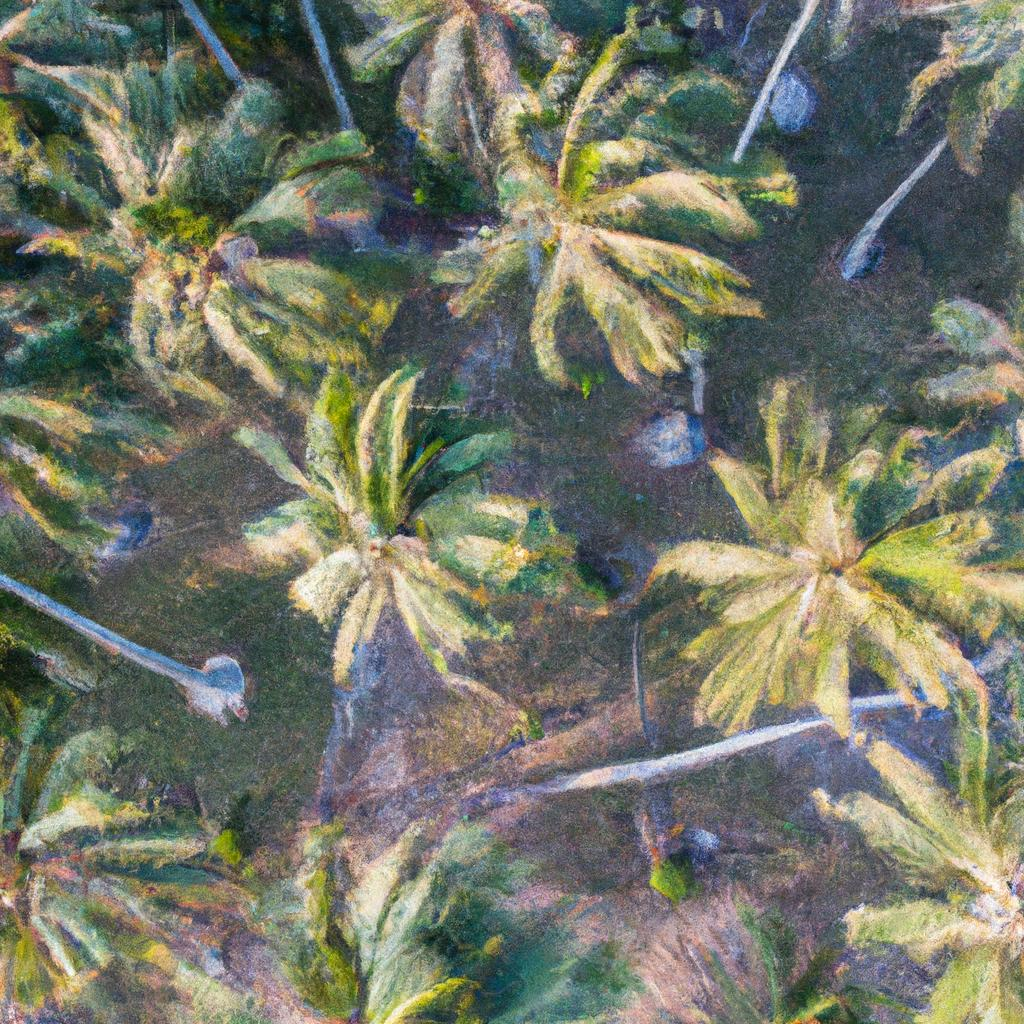coconut_tree: (652, 389, 1019, 762), (227, 358, 547, 691), (427, 88, 766, 386)
